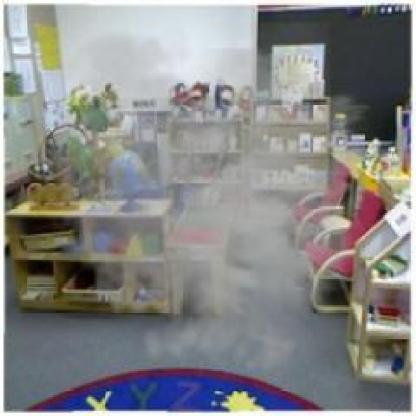Smoke: (26, 22, 395, 385)
